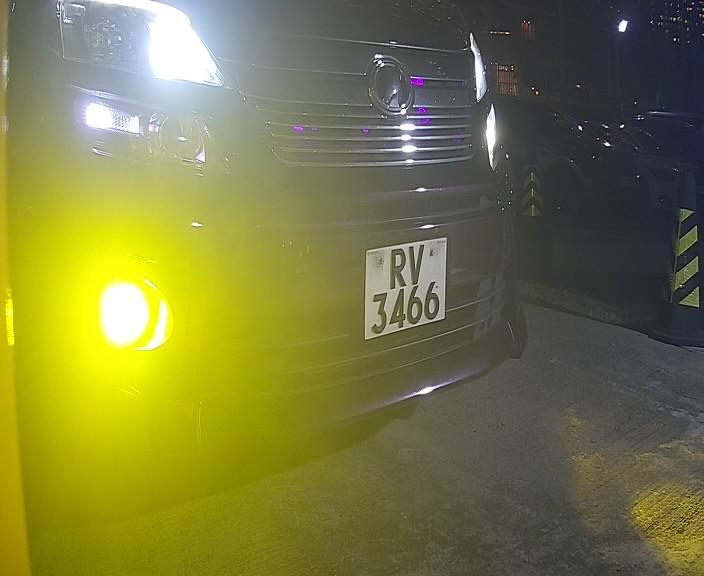privatecar: (3, 1, 540, 470)
